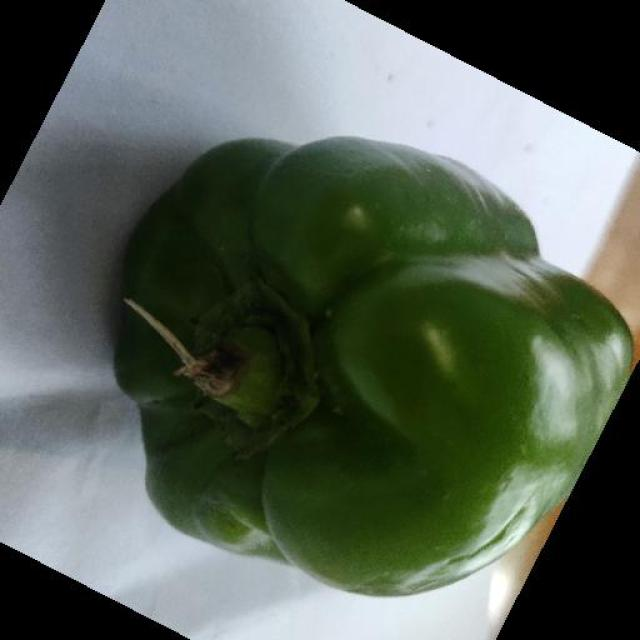Fresh_Capsicum: (85, 144, 604, 606)
